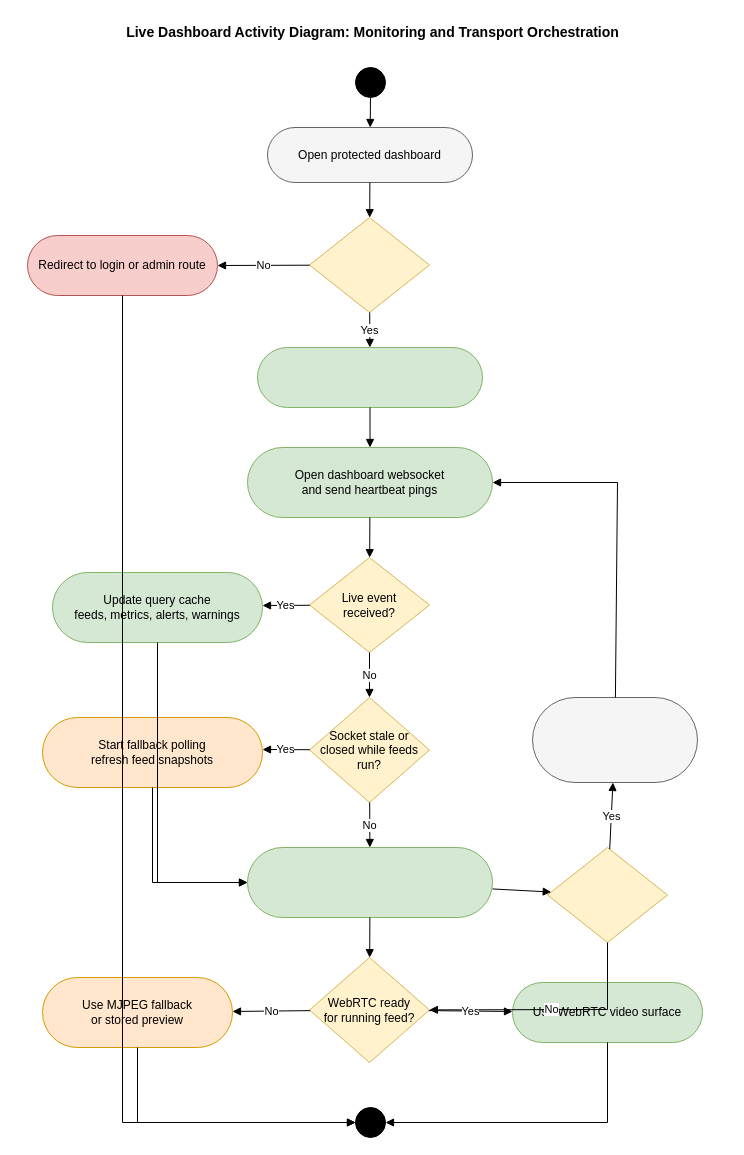
Some shapes in this 744 by 1155 pixel diagram are drawn without their labels. Here are the shapes that lost their labels. From the top down, the box of each, then its label:
(308, 216, 430, 312): Session valid and role allowed?
(256, 346, 482, 408): Fetch feeds and system health
(532, 696, 698, 782): Call feed API start, stop, restart, delete, zone, threshold
(246, 846, 492, 918): Derive dashboard state KPIs, charts, activity, attention
(546, 846, 668, 942): Operator feed action?
